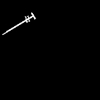treble_crochet: (4, 13, 34, 33)
